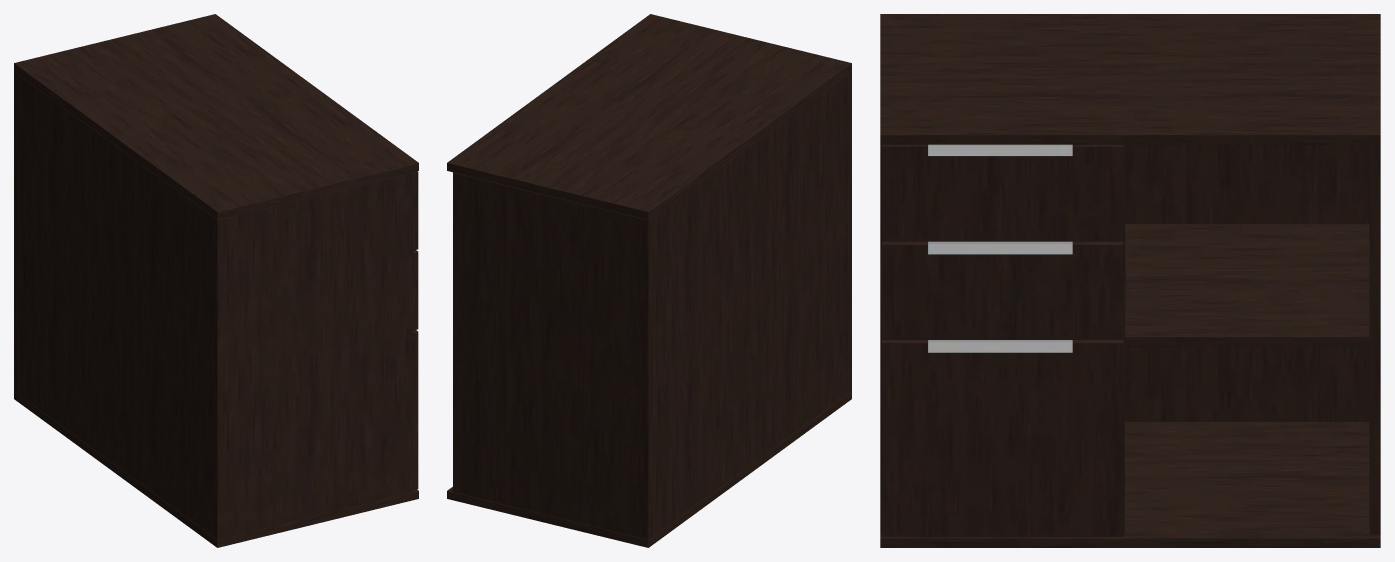
Rendered from storage_cabinet_furniture.glb.
3 views of the same model, side by side, from view 1: azimuth 30°, elevation 25°; view 2: azimuth 150°, elevation 25°; view 3: azimuth 270°, elevation 25° (orthographic). The views are drawn at different scales.
Parts seen in each view (by area): view 1: SM_Storage_M_Storage_0; view 2: SM_Storage_M_Storage_0; view 3: SM_Storage_M_Storage_0.
Boxes of the visible parts, bbox=[...] form: SM_Storage_M_Storage_0: bbox=[14, 14, 418, 547]; SM_Storage_M_Storage_0: bbox=[447, 14, 851, 547]; SM_Storage_M_Storage_0: bbox=[880, 14, 1380, 547].
Size of the model in its own units: 0.5357 by 0.82 by 0.9.
1 material, 1 textured.
